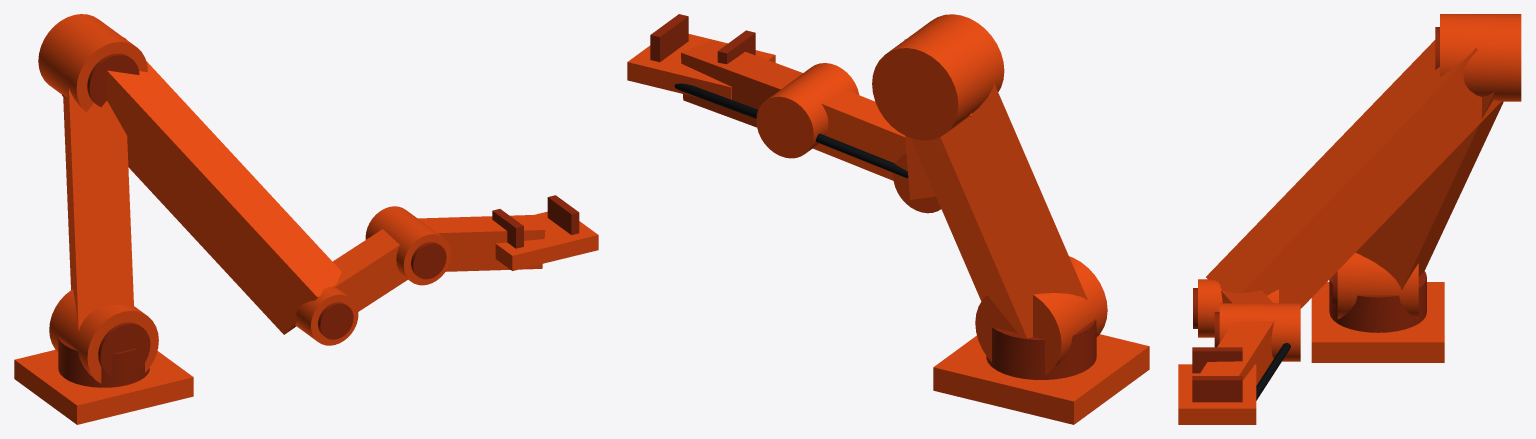
The model's file is closing_primary_robot.dae.
3 renders of one model, left to right at view 1: azimuth 30°, elevation 25°; view 2: azimuth 150°, elevation 25°; view 3: azimuth 270°, elevation 25°, orthographic. The views are drawn at different scales.
Parts seen in each view (by area): view 1: closing_primary_robot; view 2: closing_primary_robot; view 3: closing_primary_robot.
Part boxes in pixels (x1,y1,x2,y2): closing_primary_robot: (14, 14, 598, 424); closing_primary_robot: (627, 14, 1149, 424); closing_primary_robot: (1178, 14, 1521, 424).
Size of the model in its own units: 3.47 by 2.11 by 2.27.
